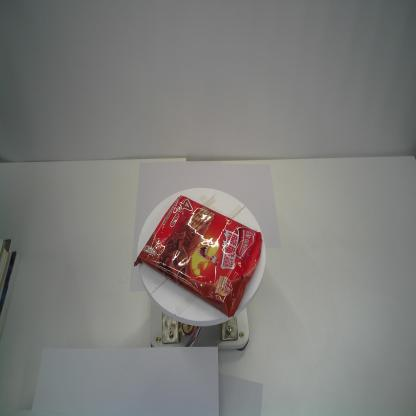Dessert: (133, 195, 263, 319)
